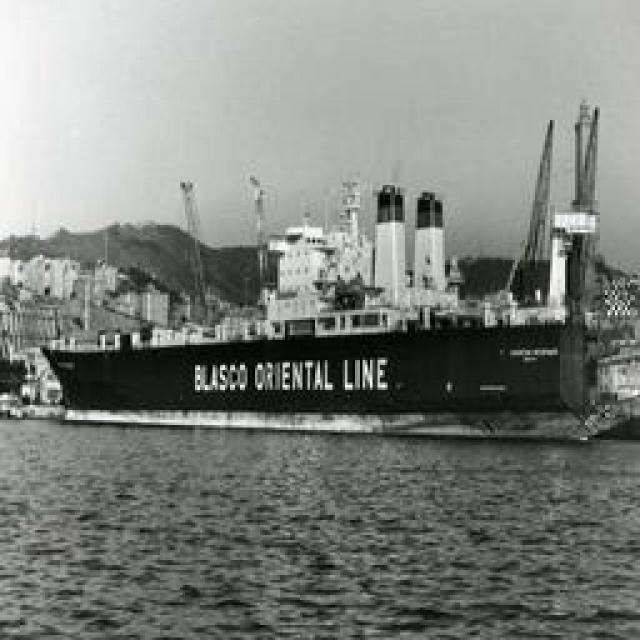Ship: (22, 140, 625, 408)
